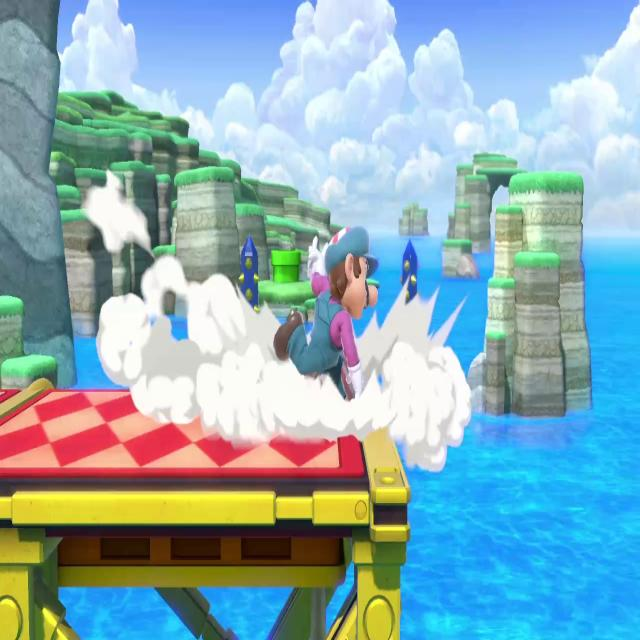Mario: (306, 221, 378, 434)
Mario-Grab: (274, 215, 381, 435)
